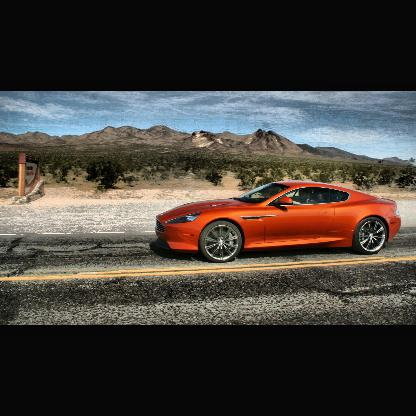Aston Martin Virage Coupe 2012: (156, 182, 405, 262)
